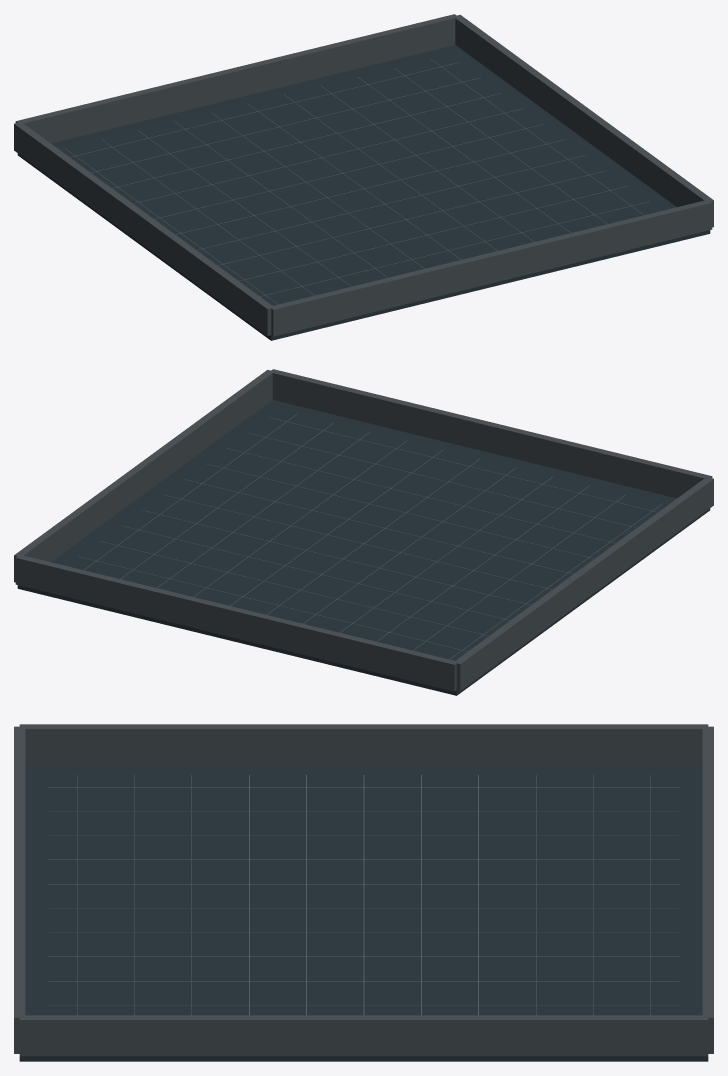
Rendered from Floor.glb.
3 renders of one model, top to bottom at view 1: azimuth 30°, elevation 25°; view 2: azimuth 150°, elevation 25°; view 3: azimuth 270°, elevation 25°, orthographic. The views are drawn at different scales.
Visible parts, largest first — view 1: Training Floor, North Wall, South Wall, East Wall, West Wall; view 2: Training Floor, South Wall, North Wall, East Wall, West Wall; view 3: Training Floor, West Wall, East Wall, Grid X (×10), South Wall, North Wall.
Part boxes in pixels (x1,y1,x2,y2): Training Floor: (17,45,710,340); North Wall: (269,200,712,336); South Wall: (15,14,458,143); East Wall: (14,122,272,335); West Wall: (455,14,713,227); Training Floor: (17,400,710,695); South Wall: (15,555,458,691); North Wall: (270,369,712,498); East Wall: (455,477,713,690); West Wall: (14,369,272,582); Training Floor: (19,765,708,1061); West Wall: (19,1015,708,1056); East Wall: (19,724,708,765); Grid X (×10): (48,787,679,1005); South Wall: (702,726,713,1053); North Wall: (14,726,25,1053).
Size of what is drawn, in the model's own units: 24.4 by 1.7 by 24.4.
